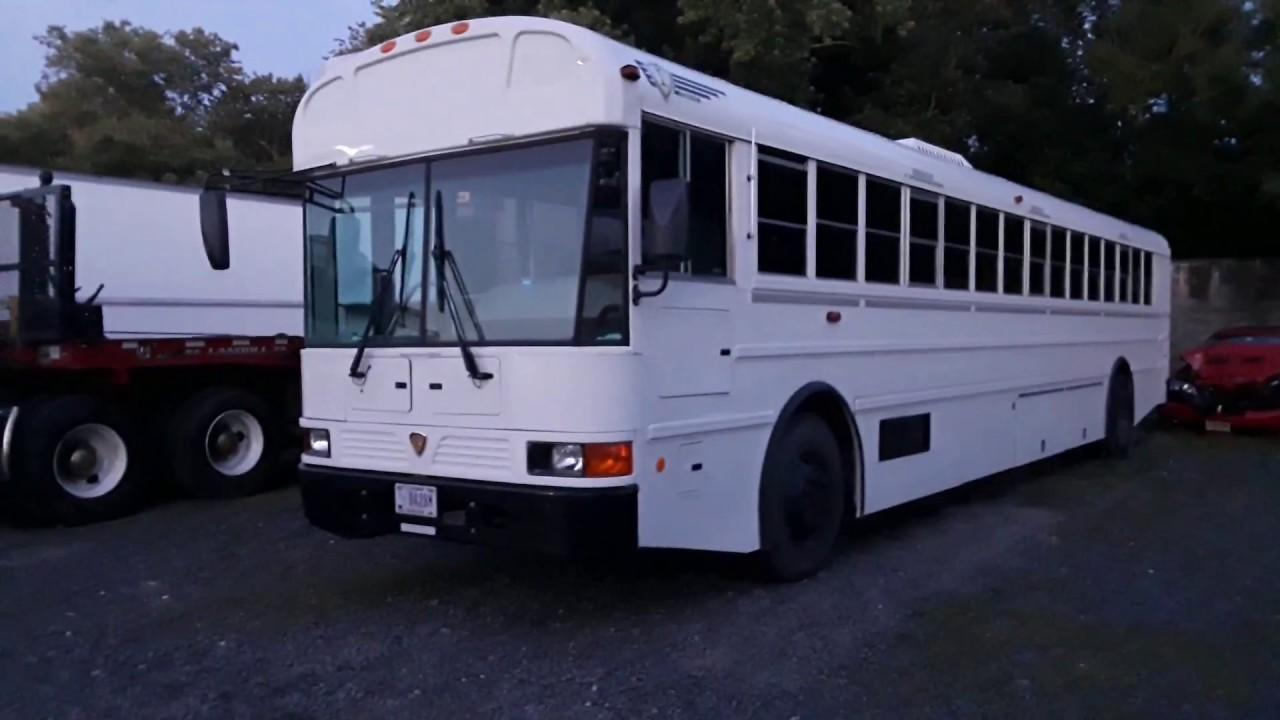Bus: (289, 15, 1179, 583)
